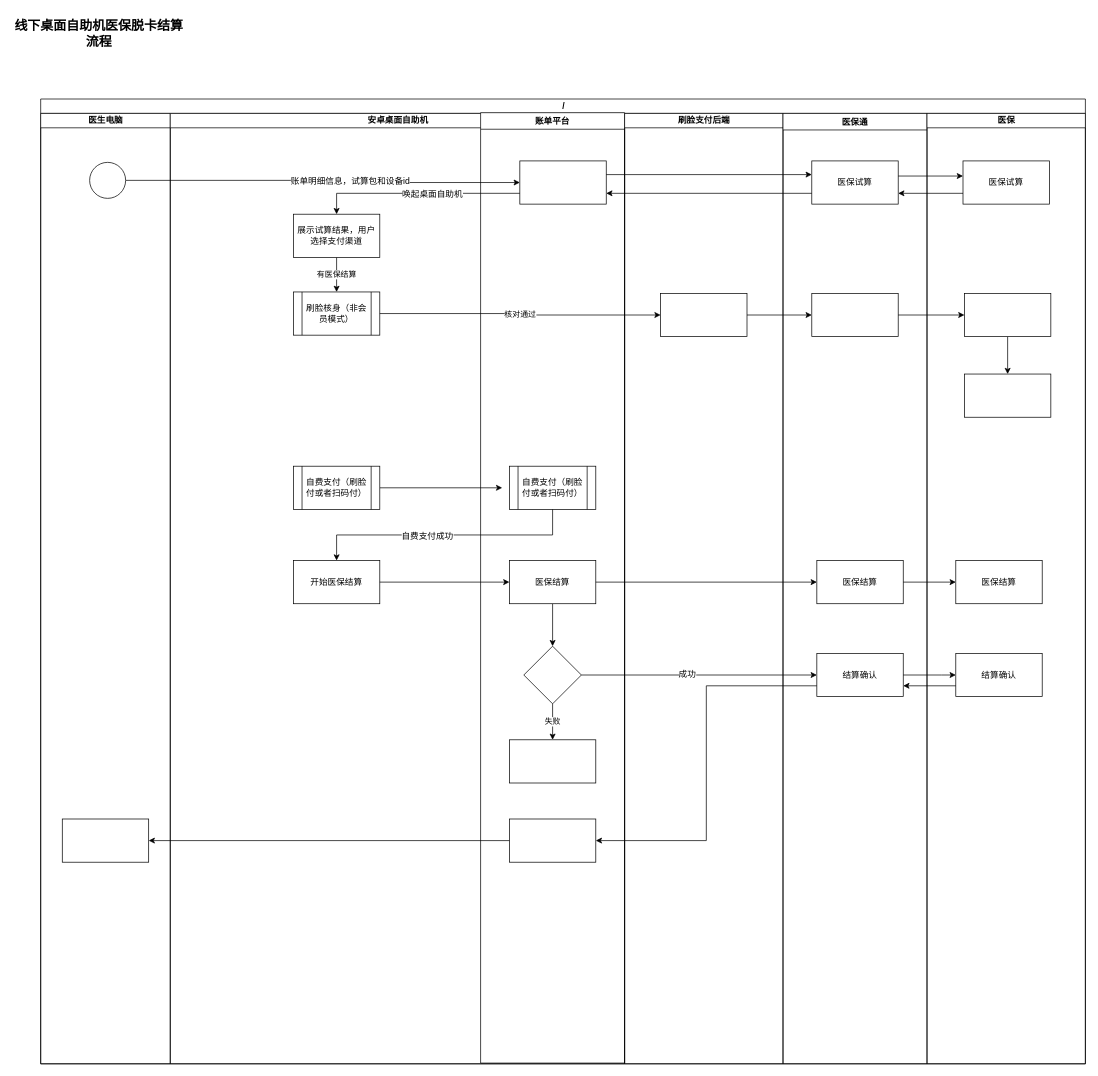
The diagram is 1098 pixels wide and 1076 high, and some of its shapes have lost their labels. The centre of each missing label's shape, as x and y in pixels:
医保token刷新: point 854,315
开始: point 107,180
开始试算: point 562,182
更新支付结果: point 105,840
根据入参的医保信息，刷新token: point 703,315
结算结果: point 552,674
自费回滚: point 552,761
获取临时token: point 1007,315
获取正式token: point 1007,395
通知医院支付成功: point 552,840
